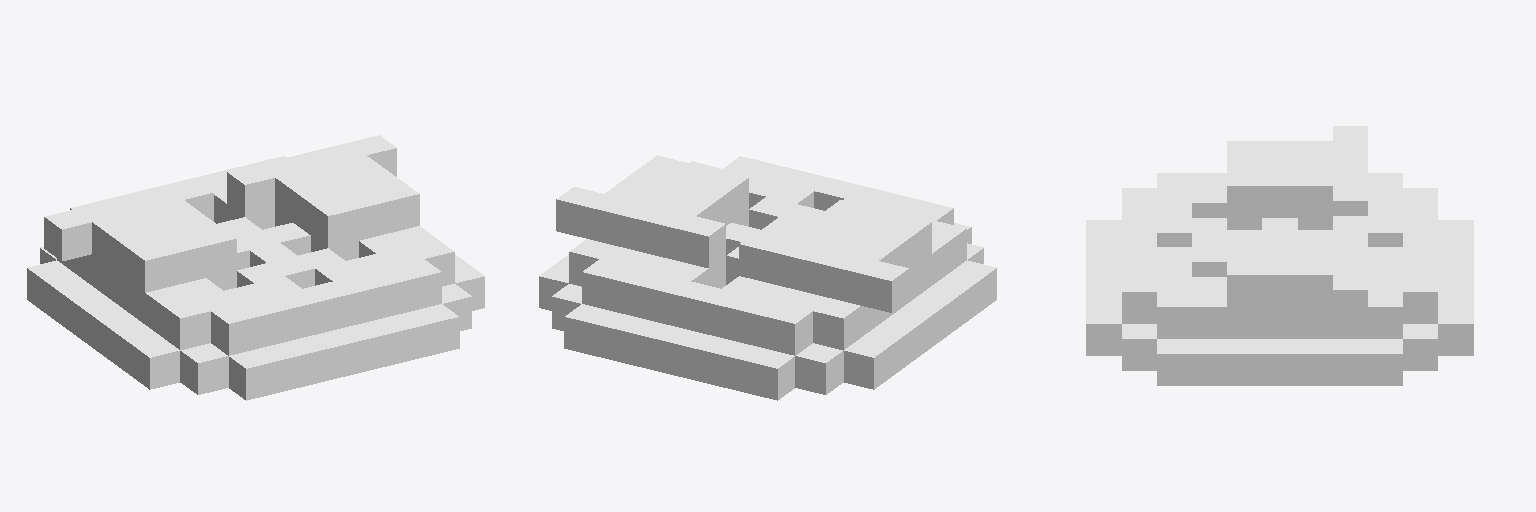
Rendered from TroySandDollar_blink.obj.
The picture shows the model from 3 angles: view 1: azimuth 30°, elevation 25°; view 2: azimuth 150°, elevation 25°; view 3: azimuth 270°, elevation 25°; orthographic projection.
Visible parts, largest first — view 1: object 1; view 2: object 1; view 3: object 1.
Part boxes in pixels (x1,y1,x2,y2): object 1: (27, 135, 484, 400); object 1: (539, 155, 996, 400); object 1: (1086, 126, 1473, 385).
Size of the model in its own units: 1.1 by 0.3 by 1.1.